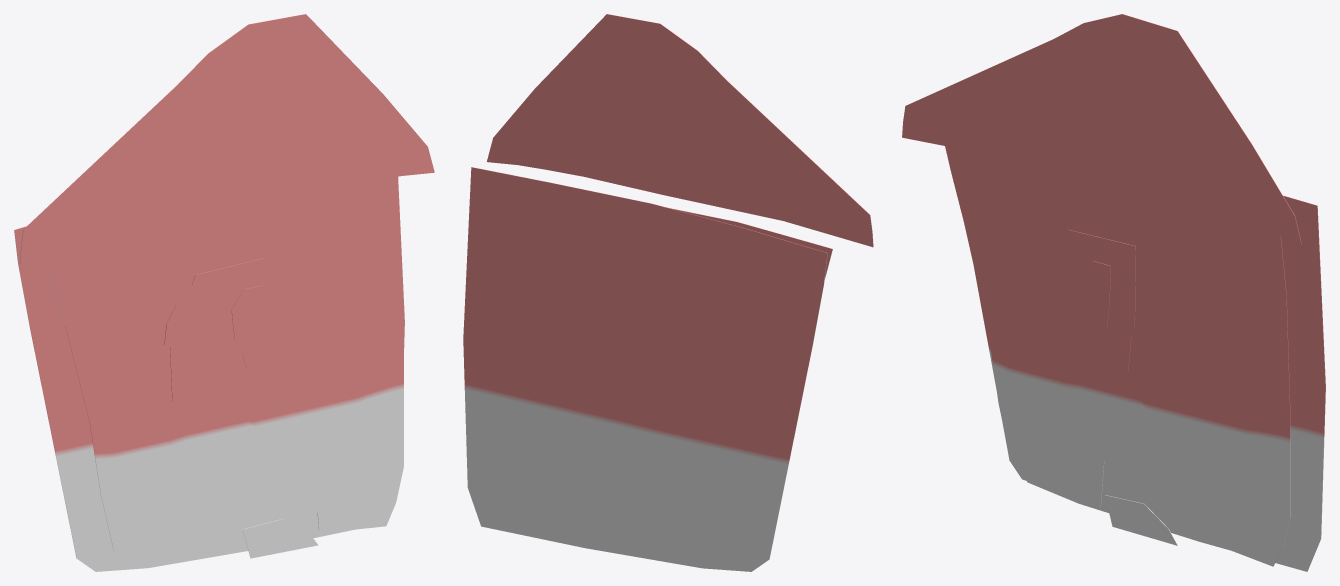
Rendered from village.fbx_village_house_9.fbx.
3 renders of one model, left to right at view 1: azimuth 30°, elevation 25°; view 2: azimuth 150°, elevation 25°; view 3: azimuth 330°, elevation 25°, orthographic. The views are drawn at different scales.
Visible parts, largest first — view 1: house outline, roof.010, house.010, window door, window inside.001; view 2: house.010, roof.010, house outline; view 3: house outline, roof.010, house.010, window door, window inside.001.
Boxes of the visible parts, left/top/right/bottom form: house outline: left=46, top=177, right=403, bottom=562; roof.010: left=20, top=14, right=434, bottom=264; house.010: left=14, top=176, right=404, bottom=571; window door: left=164, top=258, right=317, bottom=558; window inside.001: left=231, top=285, right=262, bottom=368; house.010: left=463, top=167, right=827, bottom=571; roof.010: left=487, top=14, right=873, bottom=247; house outline: left=668, top=207, right=832, bottom=279; house outline: left=945, top=146, right=1290, bottom=566; roof.010: left=902, top=14, right=1301, bottom=244; house.010: left=974, top=195, right=1325, bottom=571; window door: left=1038, top=229, right=1177, bottom=545; window inside.001: left=1081, top=261, right=1110, bottom=338.
Bounding box in the file's own units: 800 × 1031 × 136.
